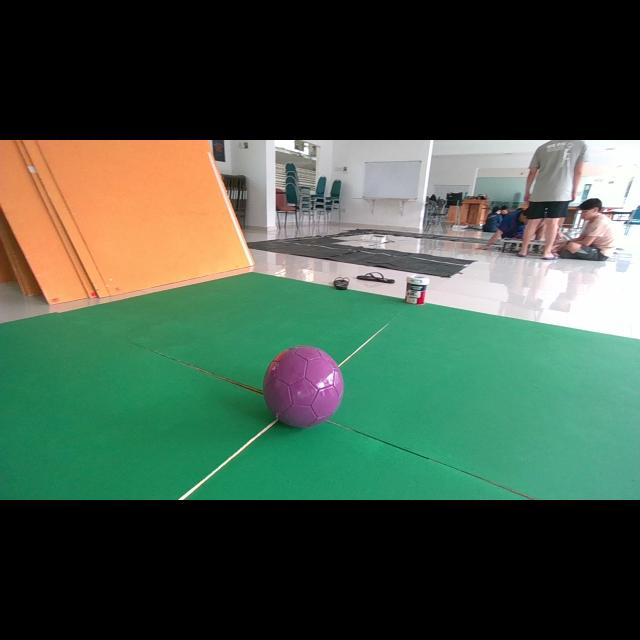P: (262, 346, 344, 428)
